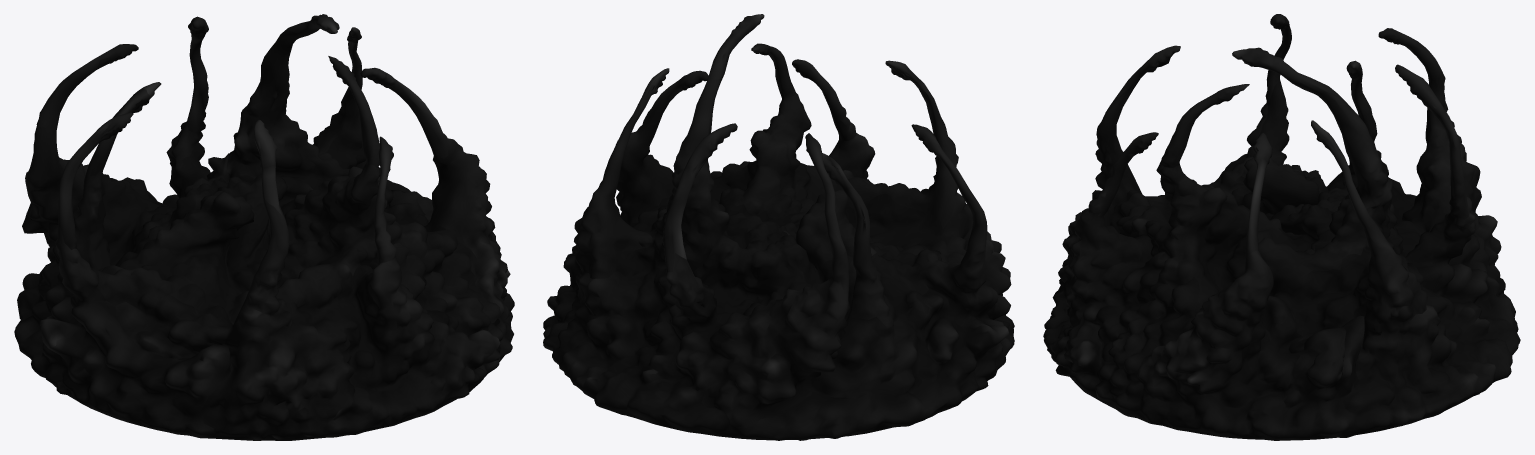
Rendered from MZ4250 - Black Pudding 2025.glb.
3 views of the same model, side by side, from view 1: azimuth 30°, elevation 25°; view 2: azimuth 150°, elevation 25°; view 3: azimuth 270°, elevation 25° (orthographic). The views are drawn at different scales.
Parts seen in each view (by area): view 1: Black Pudding.001; view 2: Black Pudding.001; view 3: Black Pudding.001.
Boxes of the visible parts, box(x1,y1,x2,y2) form: Black Pudding.001: box(14, 14, 514, 440); Black Pudding.001: box(543, 14, 1014, 440); Black Pudding.001: box(1043, 14, 1520, 440).
Bounding box in the file's own units: 138 × 97.15 × 132.
Materials: 1 (1 with a texture image).
